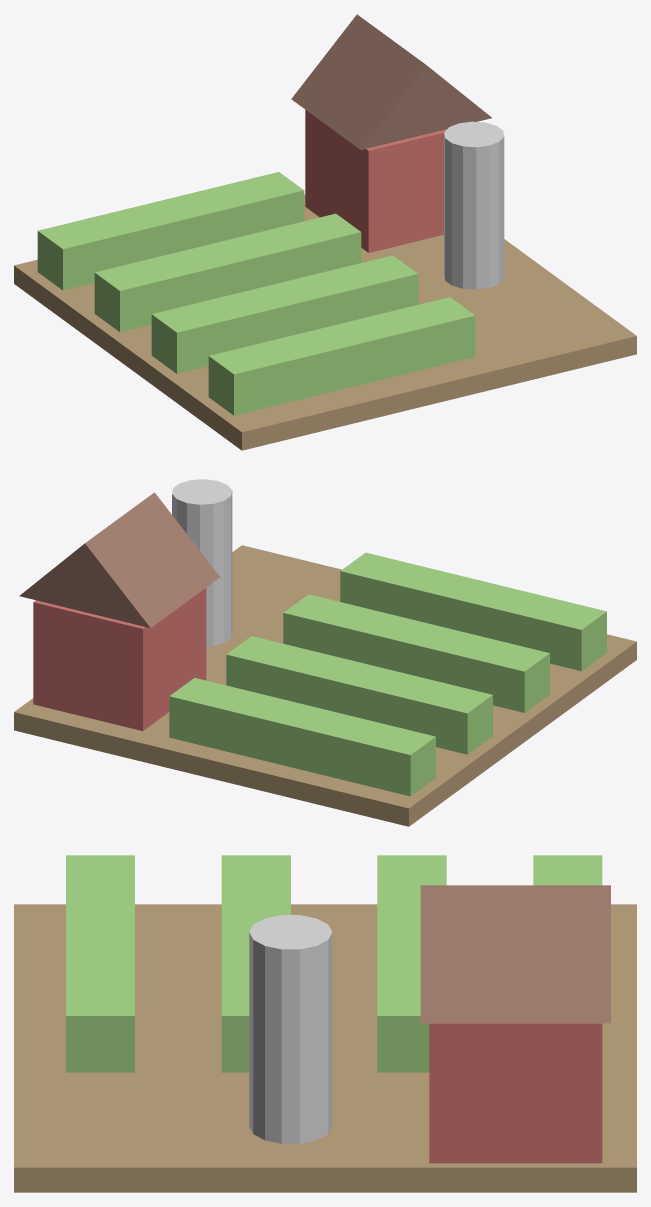
The model's file is farm.glb.
3 views of the same model, one above another, from view 1: azimuth 30°, elevation 25°; view 2: azimuth 150°, elevation 25°; view 3: azimuth 270°, elevation 25° (orthographic). The views are drawn at different scales.
Parts seen in each view (by area): view 1: box.001, box.005, box.004, box.003, box.002, prism, box, cyl; view 2: box.001, box, box.002, box.003, box.004, box.005, prism, cyl; view 3: box.001, prism, box, cyl, box.005, box.003, box.004, box.002.
Part boxes in pixels (x1=…): box.001: x1=14, y1=194, x2=636, y2=450; box.005: x1=208, y1=297, x2=475, y2=415; box.004: x1=151, y1=255, x2=418, y2=373; box.003: x1=94, y1=213, x2=361, y2=332; box.002: x1=37, y1=172, x2=304, y2=290; prism: x1=291, y1=14, x2=491, y2=149; box: x1=305, y1=110, x2=446, y2=252; cyl: x1=444, y1=121, x2=504, y2=289; box.001: x1=14, y1=545, x2=636, y2=826; box: x1=33, y1=588, x2=206, y2=730; box.002: x1=169, y1=678, x2=435, y2=796; box.003: x1=226, y1=636, x2=492, y2=754; box.004: x1=283, y1=594, x2=549, y2=712; box.005: x1=340, y1=552, x2=606, y2=671; prism: x1=19, y1=492, x2=219, y2=628; cyl: x1=172, y1=479, x2=232, y2=646; box.001: x1=14, y1=904, x2=636, y2=1192; prism: x1=420, y1=885, x2=610, y2=1023; box: x1=429, y1=1023, x2=602, y2=1163; cyl: x1=249, y1=915, x2=332, y2=1143; box.005: x1=66, y1=855, x2=134, y2=1072; box.003: x1=377, y1=855, x2=446, y2=1072; box.004: x1=221, y1=855, x2=290, y2=1072; box.002: x1=533, y1=855, x2=602, y2=885.
Bounding box in the file's own units: 1.82 × 0.85 × 1.8.
